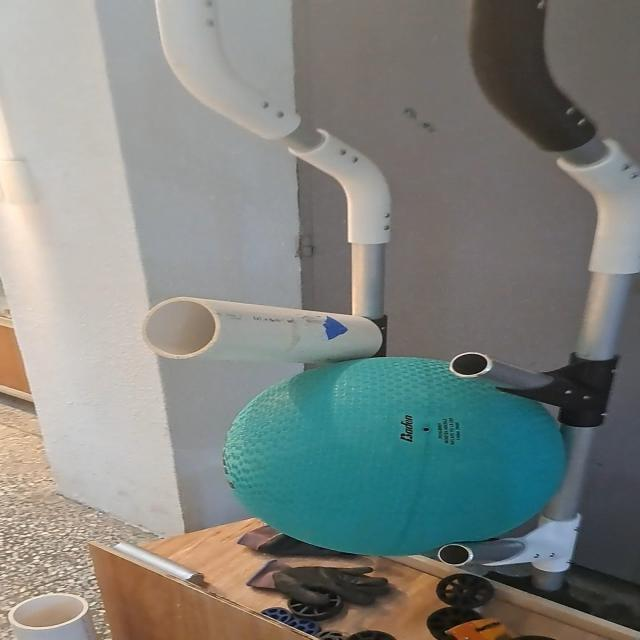ALGAE: (220, 349, 566, 564)
CORAL: (129, 292, 390, 366)
